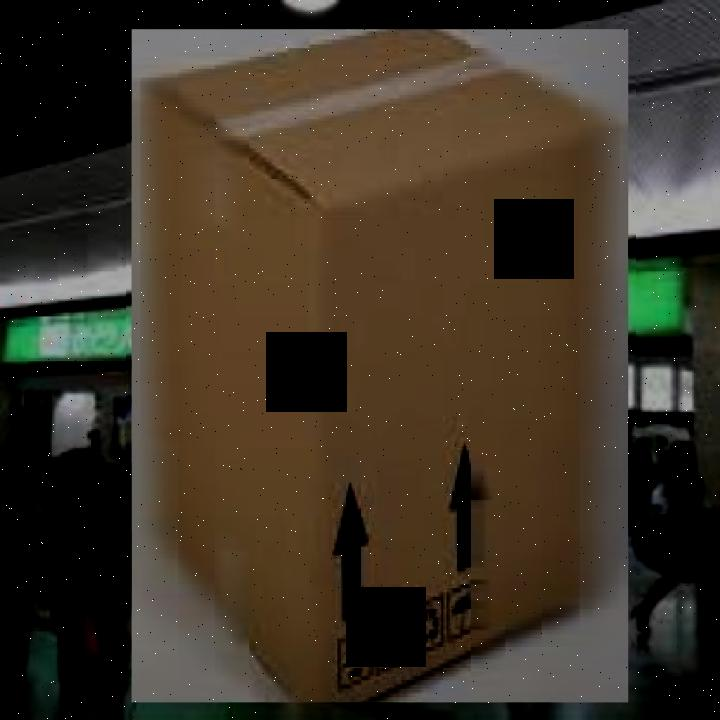box: (126, 21, 636, 715)
